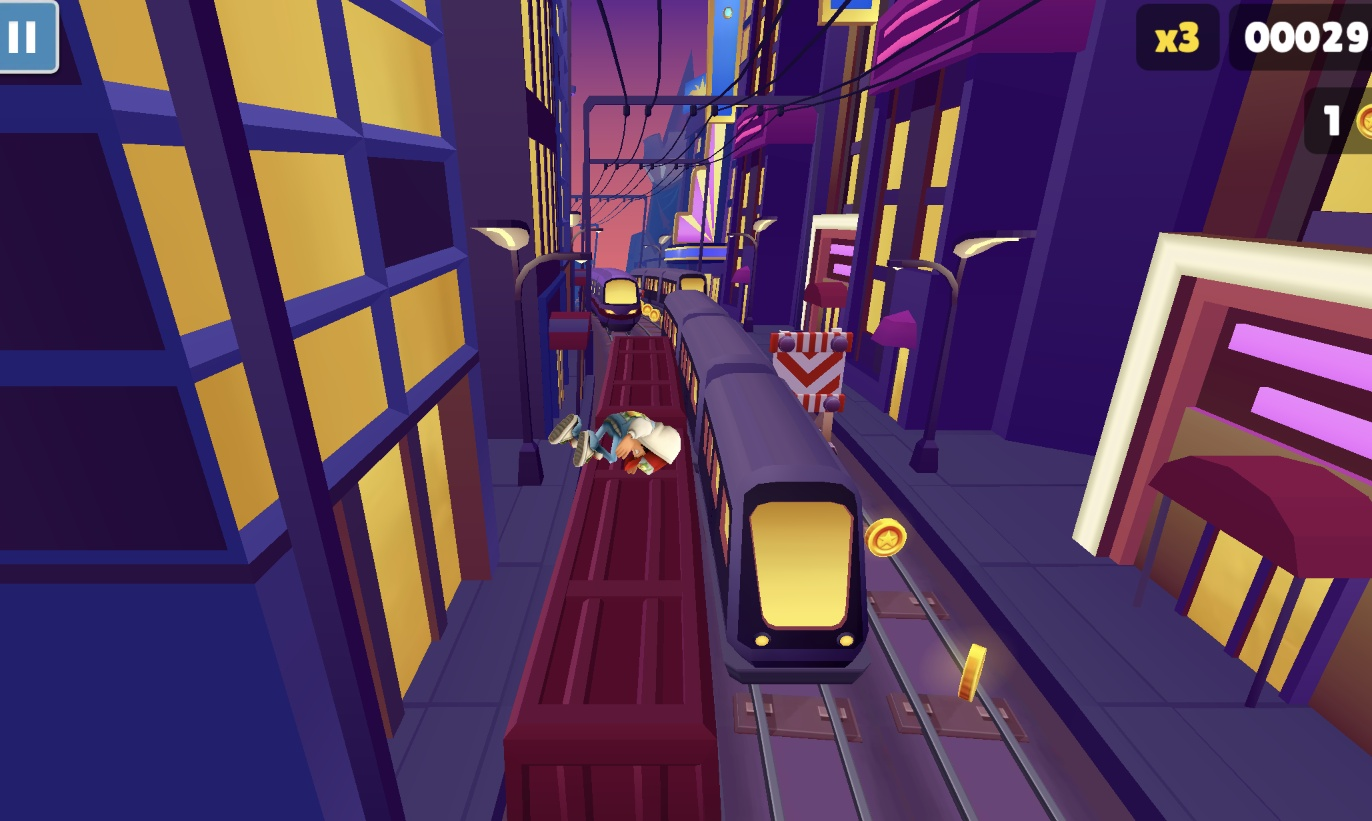overhead_barrier: (767, 329, 853, 442)
train: (501, 328, 726, 821), (642, 286, 888, 699), (621, 265, 713, 313), (594, 270, 644, 332)
